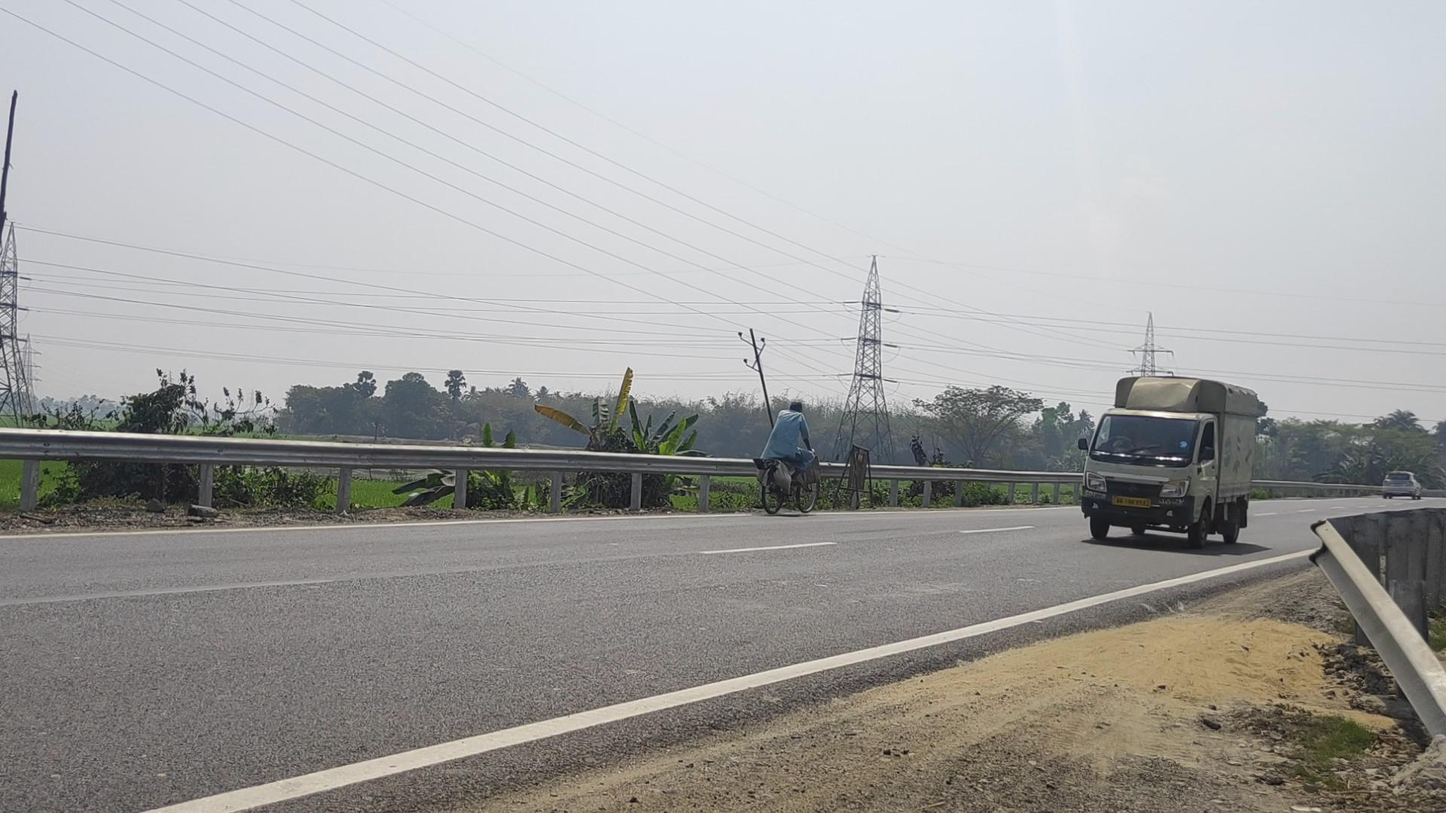bike: (753, 402, 821, 514)
car: (1383, 470, 1422, 501)
van: (1078, 376, 1258, 548)
